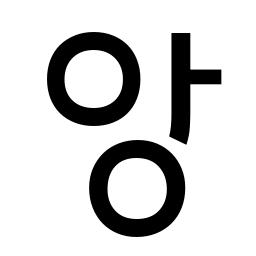Gaji: (157, 55, 209, 101)
